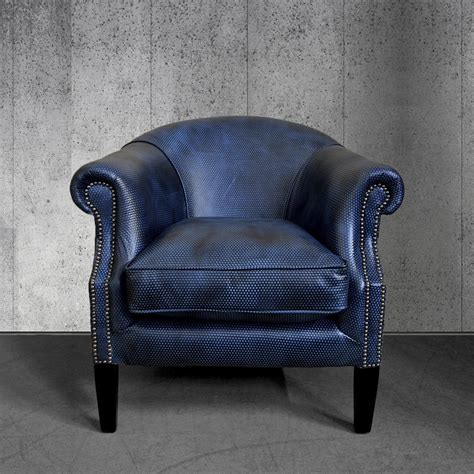cuero: (68, 114, 406, 370)
